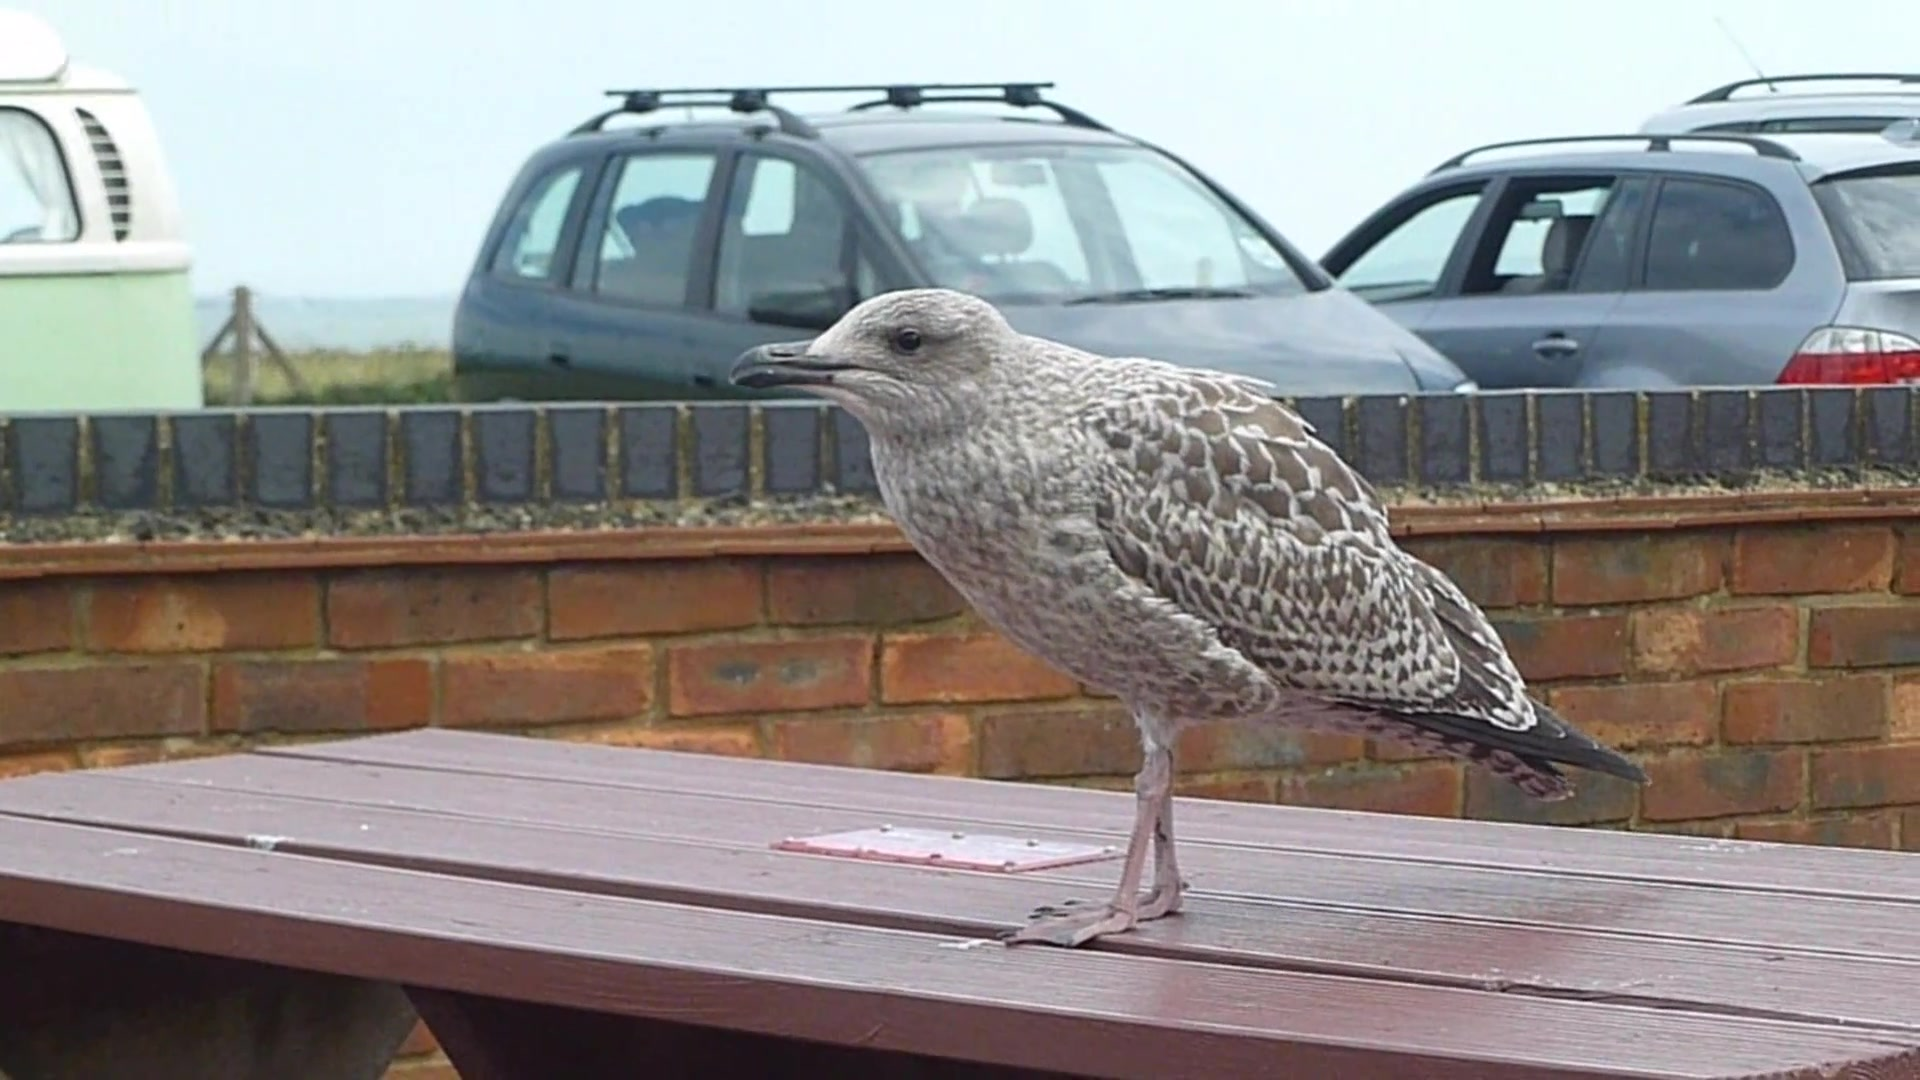bird: (733, 289, 1652, 949)
